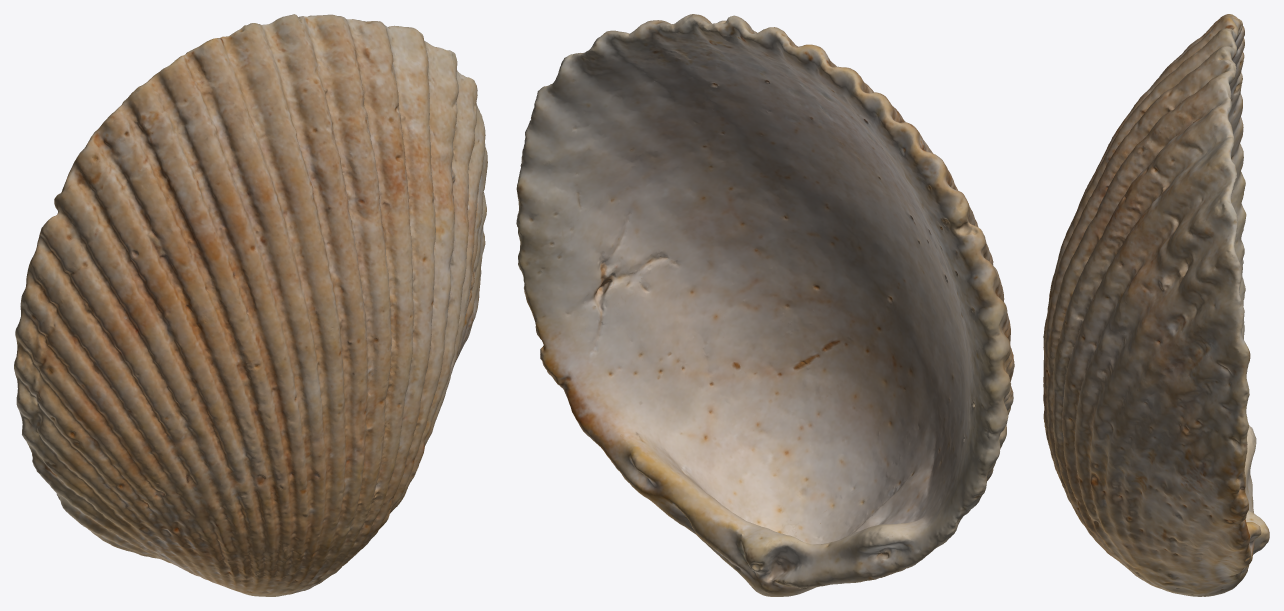
File: shell.glb
3 views of the same model, side by side, from view 1: azimuth 30°, elevation 25°; view 2: azimuth 150°, elevation 25°; view 3: azimuth 270°, elevation 25° (orthographic). The views are drawn at different scales.
Visible parts, largest first — view 1: Object_2, Object_3, Object_5, Object_4, Object_6; view 2: Object_4, Object_3, Object_2, Object_5, Object_6; view 3: Object_4, Object_3, Object_2, Object_5, Object_6.
Boxes of the visible parts, box(x1,y1,x2,y2) form: Object_2: box(20, 14, 435, 513); Object_3: box(37, 14, 484, 582); Object_5: box(14, 95, 486, 596); Object_4: box(14, 15, 487, 596); Object_6: box(27, 21, 432, 552); Object_4: box(516, 14, 1011, 596); Object_3: box(516, 14, 1014, 538); Object_2: box(571, 15, 1008, 454); Object_5: box(516, 72, 1014, 595); Object_6: box(583, 23, 997, 579); Object_4: box(1043, 30, 1252, 596); Object_3: box(1054, 17, 1251, 547); Object_2: box(1043, 14, 1244, 502); Object_5: box(1094, 44, 1269, 595); Object_6: box(1184, 14, 1256, 461).
Size of the model in its own units: 0.0485 by 0.0546 by 0.02.
1 material, 1 textured.
